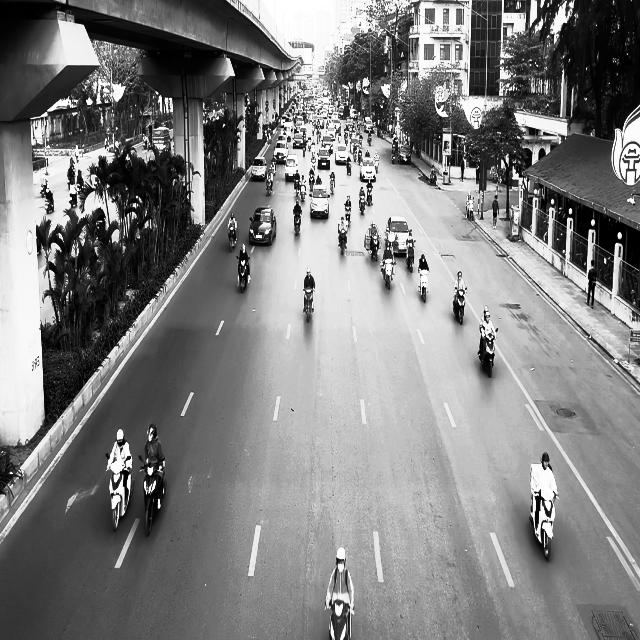car: (248, 207, 276, 246), (385, 216, 410, 255), (310, 184, 330, 218), (251, 156, 268, 179), (284, 155, 298, 181)
motorbike: (106, 452, 135, 532), (138, 454, 166, 536), (326, 600, 354, 640), (478, 326, 498, 378), (453, 287, 467, 325), (237, 255, 251, 293), (381, 258, 396, 290), (303, 287, 315, 322), (418, 268, 430, 302), (406, 240, 416, 272), (338, 227, 348, 255), (370, 233, 380, 261), (293, 210, 302, 236), (228, 227, 236, 251), (45, 194, 54, 214)
